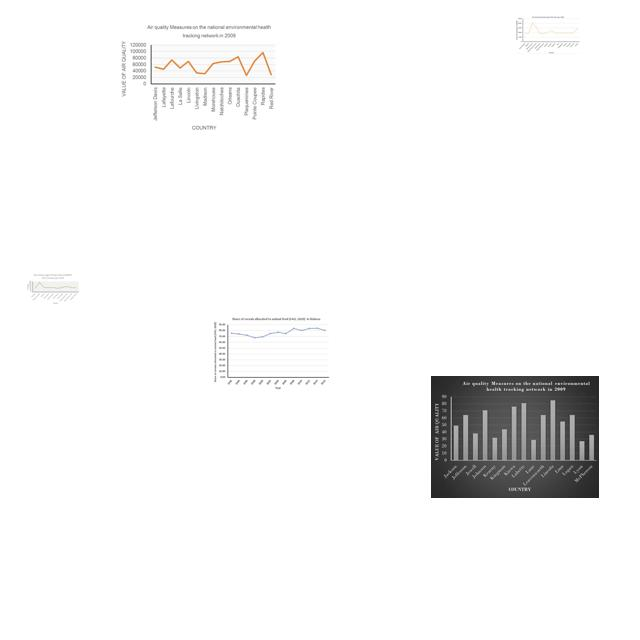Graph: (431, 376, 599, 498), (116, 22, 279, 133), (212, 315, 331, 391), (516, 16, 580, 54), (26, 273, 80, 304)
